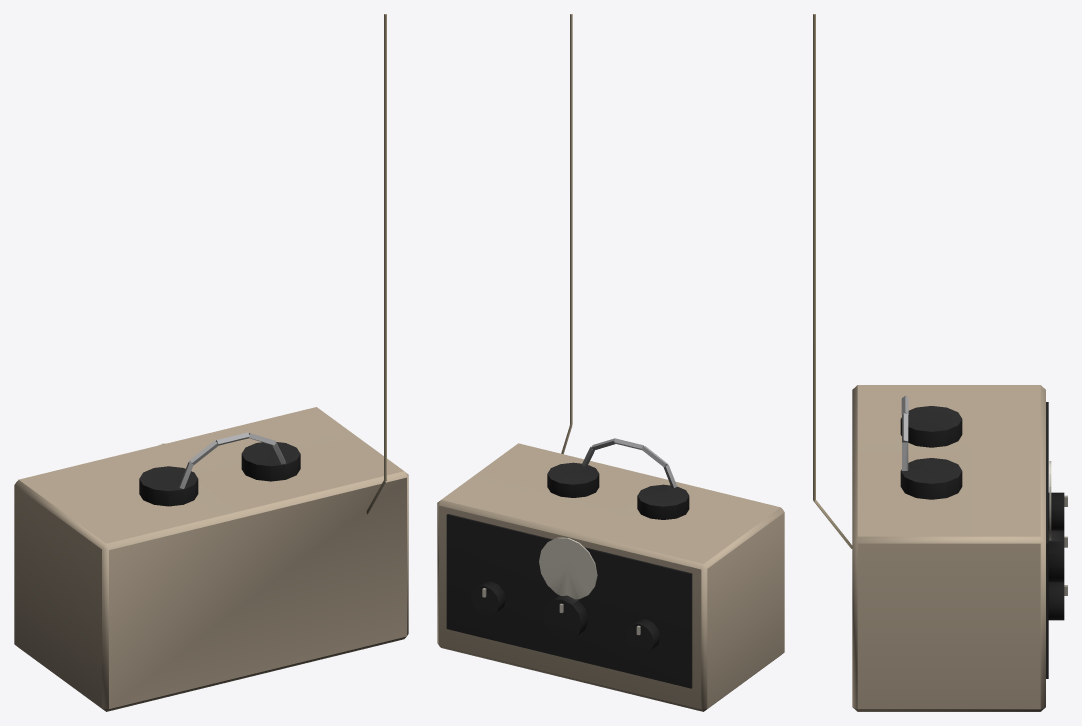
The model's file is radio_set.glb.
The picture shows the model from 3 angles, left to right: view 1: azimuth 30°, elevation 25°; view 2: azimuth 150°, elevation 25°; view 3: azimuth 270°, elevation 25°; orthographic projection. The views are drawn at different scales.
Visible parts, largest first — view 1: static; view 2: static; view 3: static.
Boxes of the visible parts, x1,y1,x2,y2 form: static: (14,14,408,711); static: (437,14,784,711); static: (813,14,1067,711).
Bounding box in the file's own units: 0.42 × 0.85 × 0.2897.
